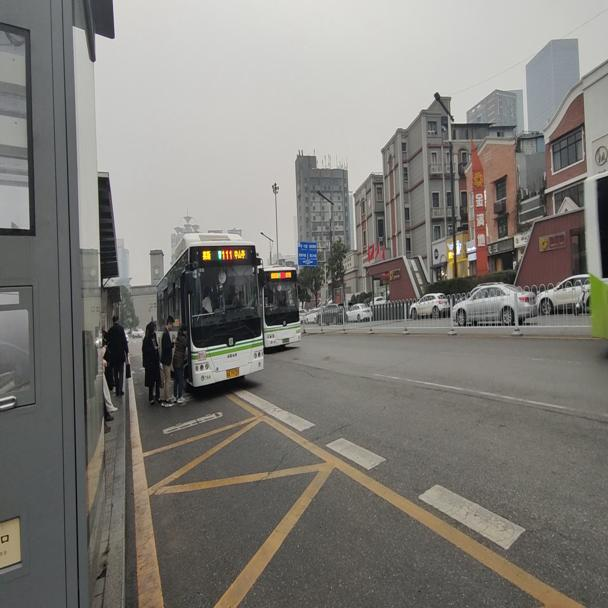bus: (154, 238, 261, 389), (261, 265, 303, 351)
screen: (220, 247, 232, 262)
